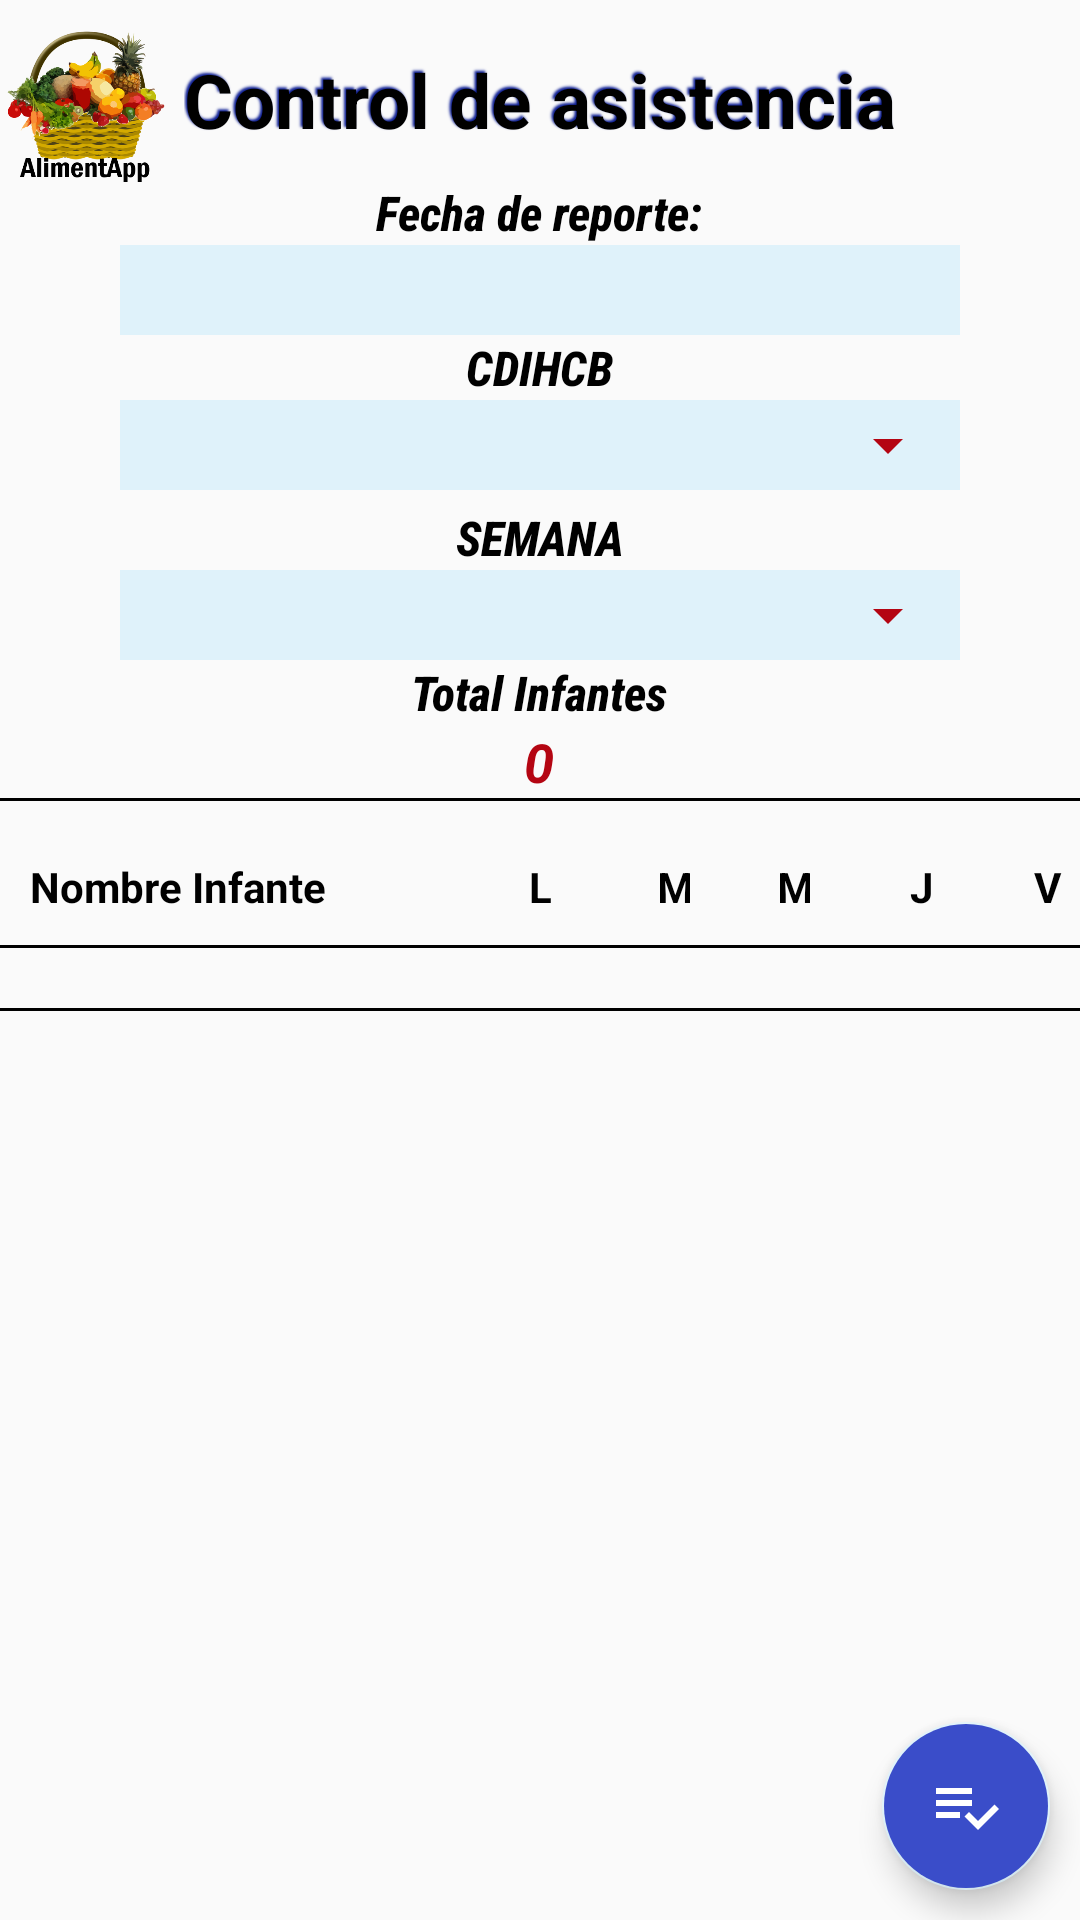

Screen size 1080px×1920px. Icon name, then its box in pixels as (x1, y1, x2, y2):
iconosuperior: (8, 31, 165, 182)
saver: (882, 1724, 1050, 1890)
